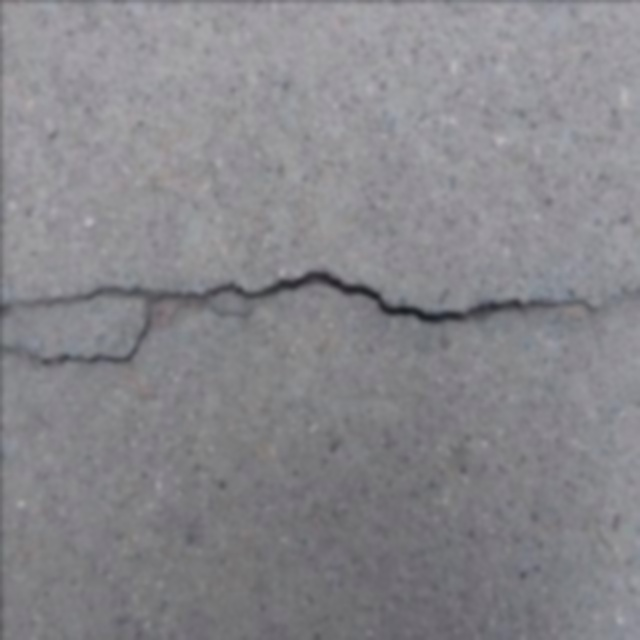SurfaceCrack: (0, 234, 632, 376)
